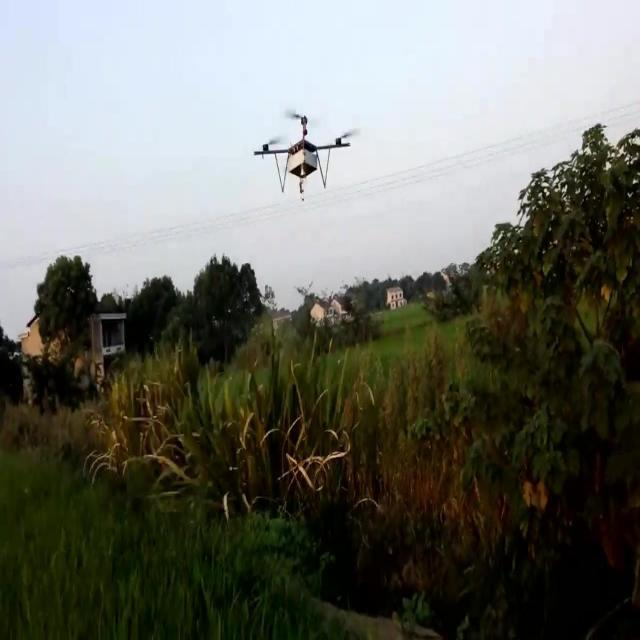UAV: (253, 109, 357, 202)
